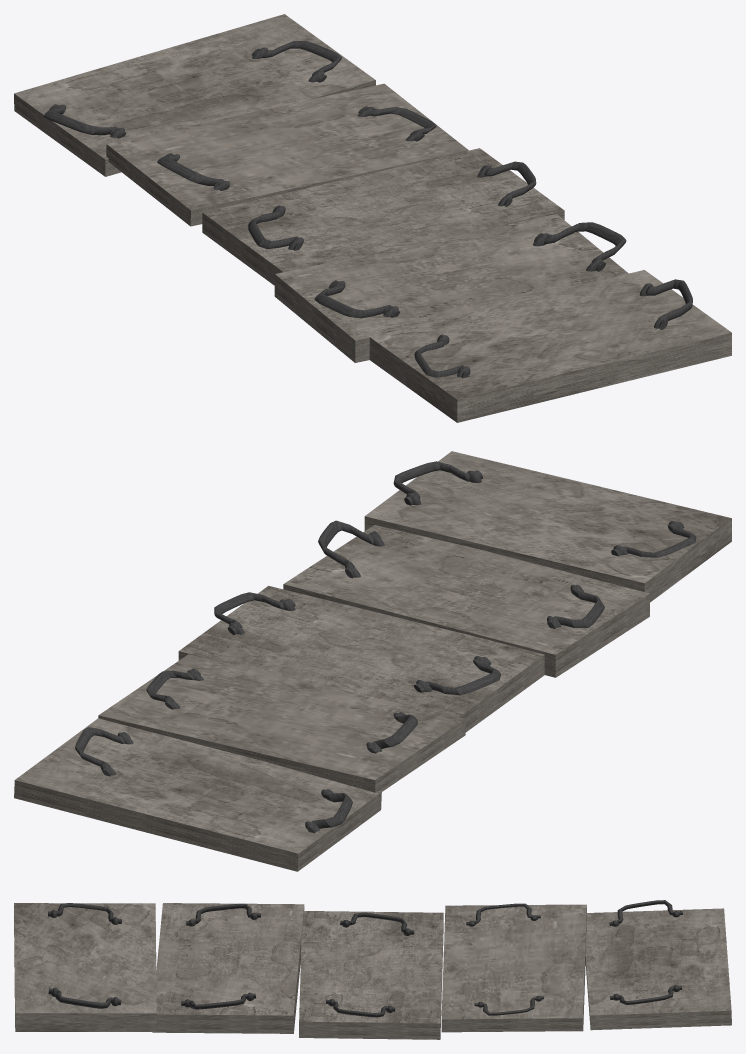
Rendered from canal cover.fbx.
The picture shows the model from 3 angles, top to bottom: view 1: azimuth 30°, elevation 25°; view 2: azimuth 150°, elevation 25°; view 3: azimuth 270°, elevation 25°; orthographic projection. The views are drawn at different scales.
Parts seen in each view (by area): view 1: Cube, Cube.003, Cube.004, Cube.001, Cube.002, Cylinder.010, Cylinder.029, Cylinder.014, Cylinder.005, Cylinder.022; view 2: Cube.004, Cube, Cube.001, Cube.003, Cube.002, Cylinder.014, Cylinder.005, Cylinder.010, Cylinder.029, Cylinder.022; view 3: Cube.001, Cube.003, Cube, Cube.002, Cube.004, Cylinder.005, Cylinder.010, Cylinder.014, Cylinder.029, Cylinder.022.
Part boxes in pixels (bbox=[...]): Cube: bbox=[369, 270, 731, 422]; Cube.003: bbox=[106, 83, 468, 226]; Cube.004: bbox=[14, 14, 375, 176]; Cube.001: bbox=[274, 214, 628, 362]; Cube.002: bbox=[202, 148, 564, 285]; Cylinder.010: bbox=[314, 222, 626, 318]; Cylinder.029: bbox=[44, 41, 341, 138]; Cylinder.014: bbox=[248, 161, 536, 250]; Cylinder.005: bbox=[414, 279, 692, 378]; Cylinder.022: bbox=[157, 106, 436, 190]; Cube.004: bbox=[14, 718, 381, 871]; Cube: bbox=[364, 451, 731, 602]; Cube.001: bbox=[283, 525, 649, 677]; Cube.003: bbox=[98, 654, 465, 792]; Cube.002: bbox=[178, 585, 544, 732]; Cylinder.014: bbox=[214, 592, 500, 695]; Cylinder.005: bbox=[393, 461, 696, 557]; Cylinder.010: bbox=[318, 520, 604, 628]; Cylinder.029: bbox=[75, 727, 352, 833]; Cylinder.022: bbox=[146, 668, 418, 753]; Cube.001: bbox=[152, 903, 304, 1033]; Cube.003: bbox=[441, 904, 586, 1032]; Cube: bbox=[14, 903, 156, 1031]; Cube.002: bbox=[299, 911, 443, 1039]; Cube.004: bbox=[585, 908, 731, 1030]; Cylinder.005: bbox=[48, 903, 121, 1008]; Cylinder.010: bbox=[181, 903, 260, 1009]; Cylinder.014: bbox=[326, 912, 414, 1017]; Cylinder.029: bbox=[609, 900, 682, 1004]; Cylinder.022: bbox=[466, 903, 543, 1015].
Bounding box in the file's own units: 403 × 57.51 × 1014.
